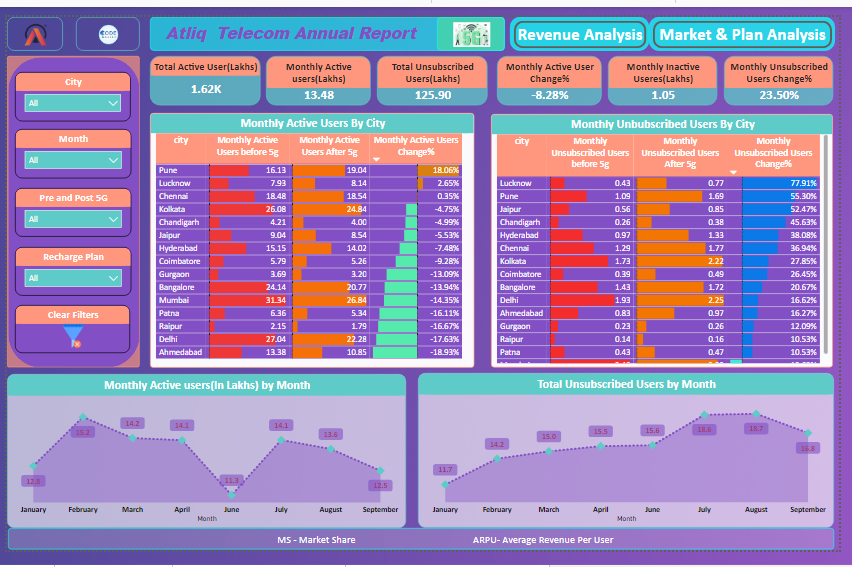

The dashboard page shown, as its layout file describes it:
{"tool":"powerbi","page":{"name":"Users Analysis","canvas":[1280,820],"ordinal":1},"visuals":[{"type":"card","title":"Monthly Active users(Lakhs) ","fields":{"Values":["key measures.Monthly Active users(In Lakhs)"]},"box":[399.2,60.5,160.5,76.1],"z":0},{"type":"card","title":"Monthly Inactive Useres(Lakhs)","fields":{"Values":["key measures.Monthly Unsubscribed Users"]},"box":[924.6,60.5,167.8,76.1],"z":1000},{"type":"card","title":"Monthly Active User Change%","fields":{"Values":["key measures.Monthly Active Users Change%"]},"box":[753.6,60.5,160.5,76.1],"z":2000},{"type":"card","title":"Monthly Unsubscribed Users Change%","fields":{"Values":["key measures.Monthly Unsubscribed Users Change%"]},"box":[1103.8,60.5,167.8,76.1],"z":3000},{"type":"card","title":"Total Active User(Lakhs)","fields":{"Values":["key measures.Total Activer Users"]},"box":[219.9,60.5,169.9,76.1],"z":4000},{"type":"card","title":"Total Unsubscribed Users(Lakhs)","fields":{"Values":["key measures.Total Unsubscribed Users"]},"box":[569.1,60.5,169.9,76.1],"z":5000},{"type":"tableEx","title":"Monthly Active Users  By City","fields":{"Values":["dim_cities.city_name","key measures.Monthly Active Users before 5g","key measures.Monthly Active Users After 5g","key measures.Monthly Active Users Change%"]},"box":[220,147.9,499.2,391.6],"z":6000},{"type":"image","box":[0,0,86.4,52.1],"z":7000},{"type":"image","box":[106.5,0,98.2,52.1],"z":8000},{"type":"shape","box":[0,60.5,204.3,479.5],"z":9000},{"type":"slicer","title":"City","fields":{"Values":["dim_cities.city_name"]},"box":[12.5,84.4,178.2,76.1],"z":10000},{"type":"slicer","title":"Month","fields":{"Values":["dim_date.month_name"]},"box":[12.5,172.9,178.6,76.2],"z":11000},{"type":"slicer","title":"Pre and Post 5G ","fields":{"Values":["dim_date.before/after_5g"]},"box":[12.5,262.8,178.6,75.1],"z":12000},{"type":"slicer","title":"Recharge Plan ","fields":{"Values":["dim_plan.plan"]},"box":[12.5,353.8,178.6,75.1],"z":13000},{"type":"tableEx","title":"Monthly Unbubscribed Users By City","fields":{"Values":["dim_cities.city_name","key measures.Monthly Unsubscribed Users before 5g","key measures.Monthly Unsubscribed Users After 5g","key measures.Monthly Unsubscribed Users Change%"]},"box":[745.3,149.1,526.4,390.4],"z":14000},{"type":"areaChart","fields":{"Category":["dim_date.date.Variation.Date Hierarchy.Month"],"Y":["key measures.Monthly Active users(In Lakhs)"]},"box":[0,548.9,614,236.6],"z":15000},{"type":"areaChart","fields":{"Category":["dim_date.date.Variation.Date Hierarchy.Month"],"Y":["key measures.Total Unsubscribed Users"]},"box":[631.7,547.7,640,237.8],"z":16000},{"type":"actionButton","box":[773.4,0,213.7,52.1],"z":17000},{"type":"actionButton","box":[987.1,0,285.6,52.1],"z":18000},{"type":"image","title":"Clear  Filters","box":[12.5,442.6,177.5,74],"z":20001},{"type":"textbox","box":[219.9,0,546.2,52.1],"z":20002},{"type":"image","box":[661.9,0,104.2,52.1],"z":20003},{"type":"textbox","box":[1.2,786.9,1270.5,33.1],"z":20004}]}

Visuals, with their boxes on the page's 1280x820 design canvas (x1, y1, x2, y2). These are canvas units, not pixel positions in the 852x567 screenshot, which may show the page scaled, cropped or inside an application window:
"Monthly Active users(Lakhs) " card: left=399, top=60, right=560, bottom=137
"Monthly Inactive Useres(Lakhs)" card: left=925, top=60, right=1092, bottom=137
"Monthly Active User Change%" card: left=754, top=60, right=914, bottom=137
"Monthly Unsubscribed Users Change%" card: left=1104, top=60, right=1272, bottom=137
"Total Active User(Lakhs)" card: left=220, top=60, right=390, bottom=137
"Total Unsubscribed Users(Lakhs)" card: left=569, top=60, right=739, bottom=137
"Monthly Active Users  By City" tableEx: left=220, top=148, right=719, bottom=540
image: left=0, top=0, right=86, bottom=52
image: left=106, top=0, right=205, bottom=52
shape: left=0, top=60, right=204, bottom=540
"City" slicer: left=12, top=84, right=191, bottom=160
"Month" slicer: left=12, top=173, right=191, bottom=249
"Pre and Post 5G " slicer: left=12, top=263, right=191, bottom=338
"Recharge Plan " slicer: left=12, top=354, right=191, bottom=429
"Monthly Unbubscribed Users By City" tableEx: left=745, top=149, right=1272, bottom=540
areaChart - dim_date.date.Variation.Date Hierarchy.Month x key measures.Monthly Active users(In Lakhs): left=0, top=549, right=614, bottom=786
areaChart - dim_date.date.Variation.Date Hierarchy.Month x key measures.Total Unsubscribed Users: left=632, top=548, right=1272, bottom=786
actionButton: left=773, top=0, right=987, bottom=52
actionButton: left=987, top=0, right=1273, bottom=52
"Clear  Filters" image: left=12, top=443, right=190, bottom=517
textbox: left=220, top=0, right=766, bottom=52
image: left=662, top=0, right=766, bottom=52
textbox: left=1, top=787, right=1272, bottom=820
